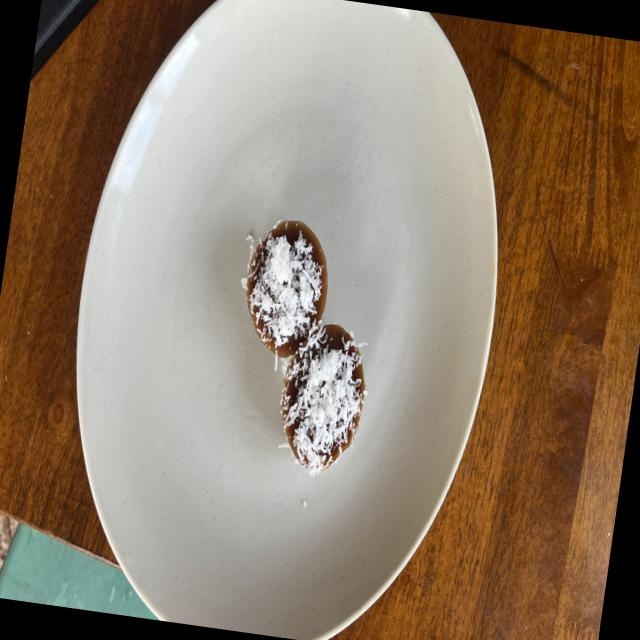Kuih lompang: (281, 324, 365, 475), (244, 221, 328, 358)
